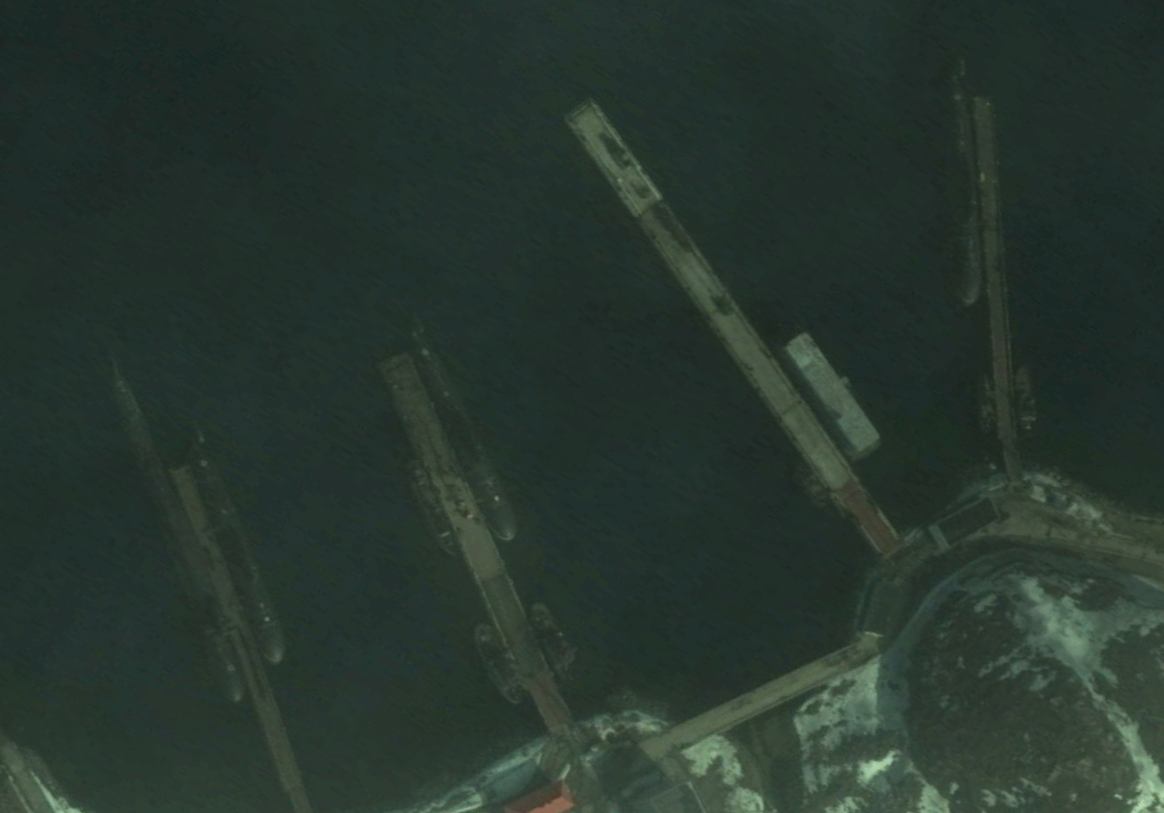merchant ship: (405, 460, 462, 557), (468, 621, 527, 706), (527, 601, 581, 688), (1012, 365, 1038, 439), (974, 373, 996, 435)
submarine: (106, 352, 243, 701), (401, 310, 516, 543), (186, 418, 286, 664), (941, 42, 985, 307)
